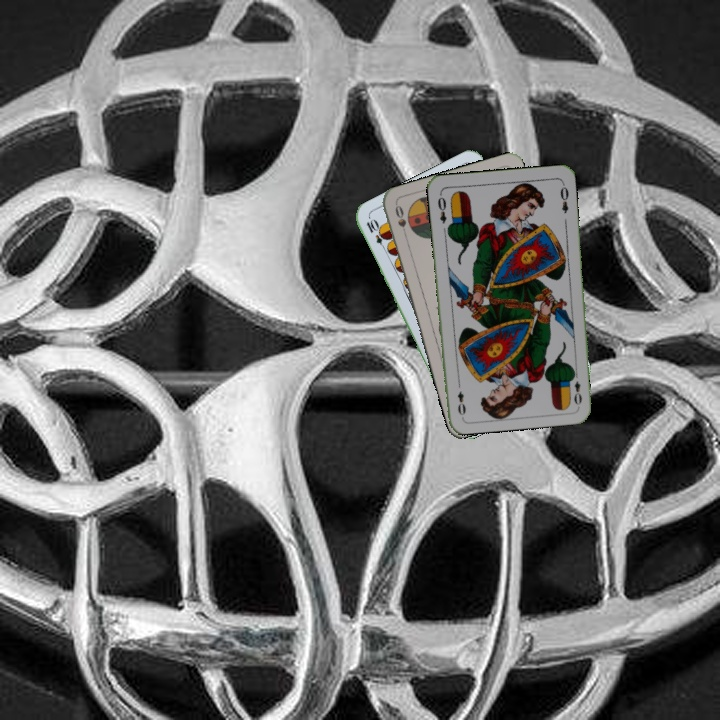E10: (362, 215, 390, 254)
EO: (568, 367, 584, 407), (433, 193, 449, 226)
SO: (391, 201, 410, 241)
